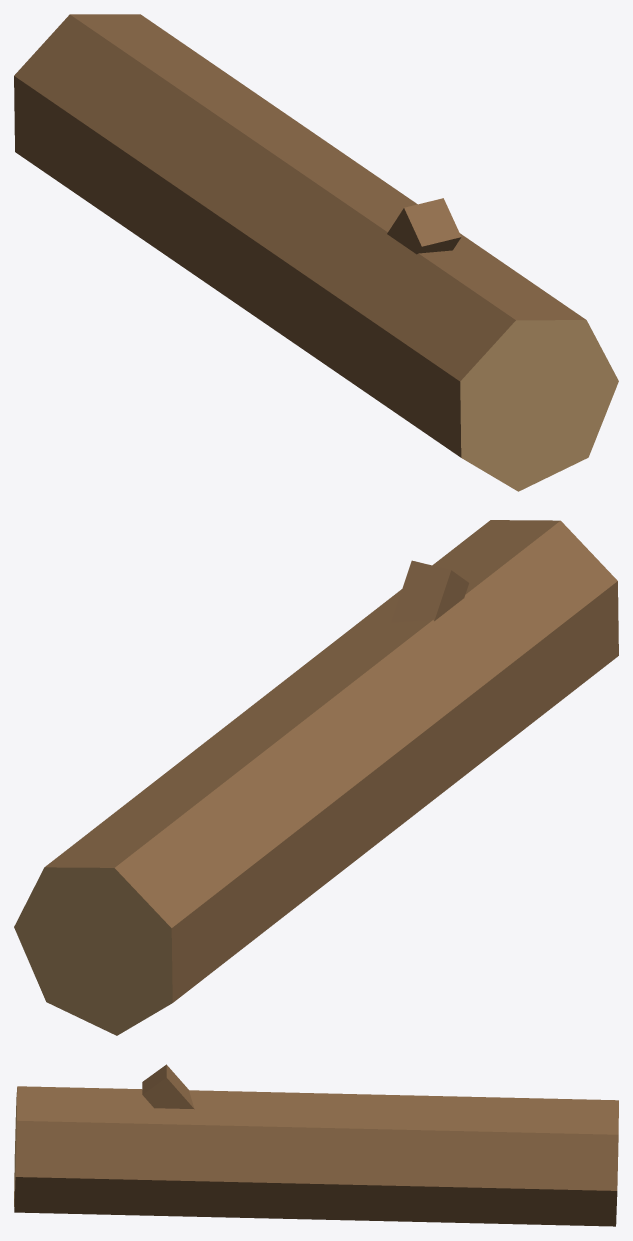
File: villager-cargo-timber.glb
3 renders of one model, top to bottom at view 1: azimuth 30°, elevation 25°; view 2: azimuth 150°, elevation 25°; view 3: azimuth 270°, elevation 25°, orthographic. The views are drawn at different scales.
Parts seen in each view (by area): view 1: villager-cargo-timber; view 2: villager-cargo-timber; view 3: villager-cargo-timber.
Boxes of the visible parts, x1,y1,x2,y2 form: villager-cargo-timber: (14,14,618,491); villager-cargo-timber: (14,520,618,1035); villager-cargo-timber: (14,1064,618,1226).
Bounding box in the file's own units: 0.3992 × 0.5359 × 1.96.
1 material, 1 textured.
